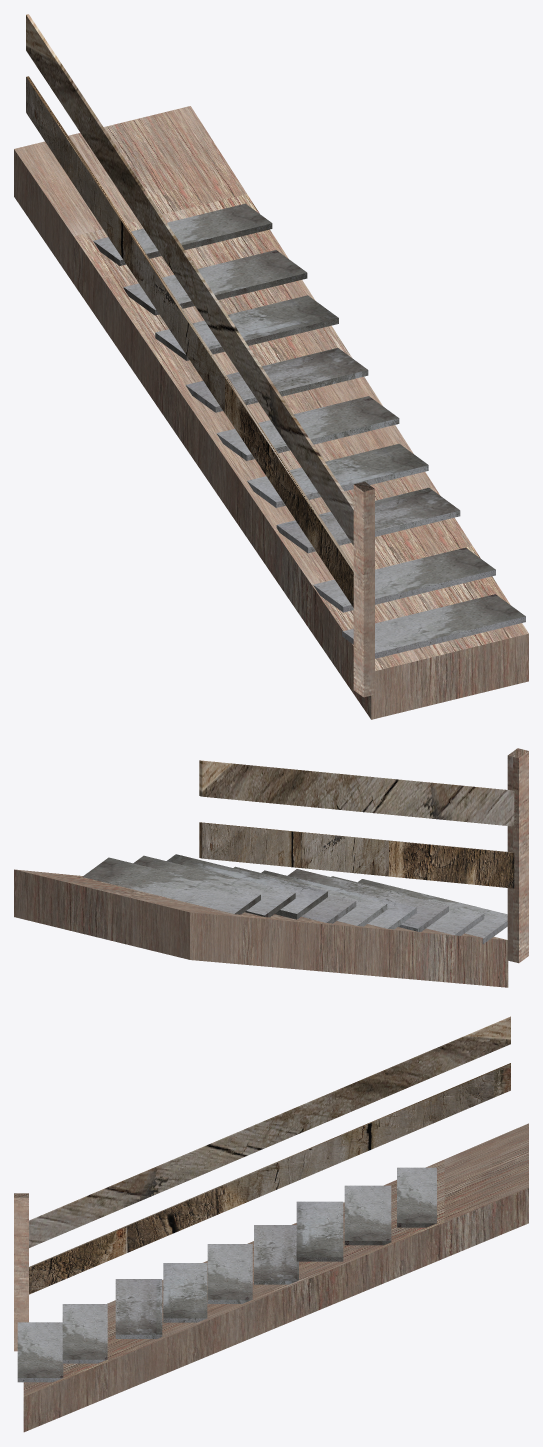
Rendered from stairs_upper.FBX.
The picture shows the model from 3 angles, top to bottom: view 1: azimuth 30°, elevation 25°; view 2: azimuth 150°, elevation 25°; view 3: azimuth 270°, elevation 25°; orthographic projection. The views are drawn at different scales.
Parts seen in each view (by area): view 1: Box044, Box059, Box047; view 2: Box044, Box047, Box059; view 3: Box044, Box047, Box059.
Part boxes in pixels (x1,y1,x2,y2): Box044: [14, 106, 528, 719]; Box059: [93, 203, 525, 658]; Box047: [26, 14, 353, 607]; Box044: [14, 748, 528, 987]; Box047: [199, 760, 514, 888]; Box059: [82, 854, 507, 944]; Box044: [14, 1123, 528, 1432]; Box047: [29, 1016, 510, 1294]; Box059: [17, 1167, 436, 1382].
Bounding box in the file's own units: 2.89 × 7.35 × 9.75.
Materials: 3 (3 with a texture image).
